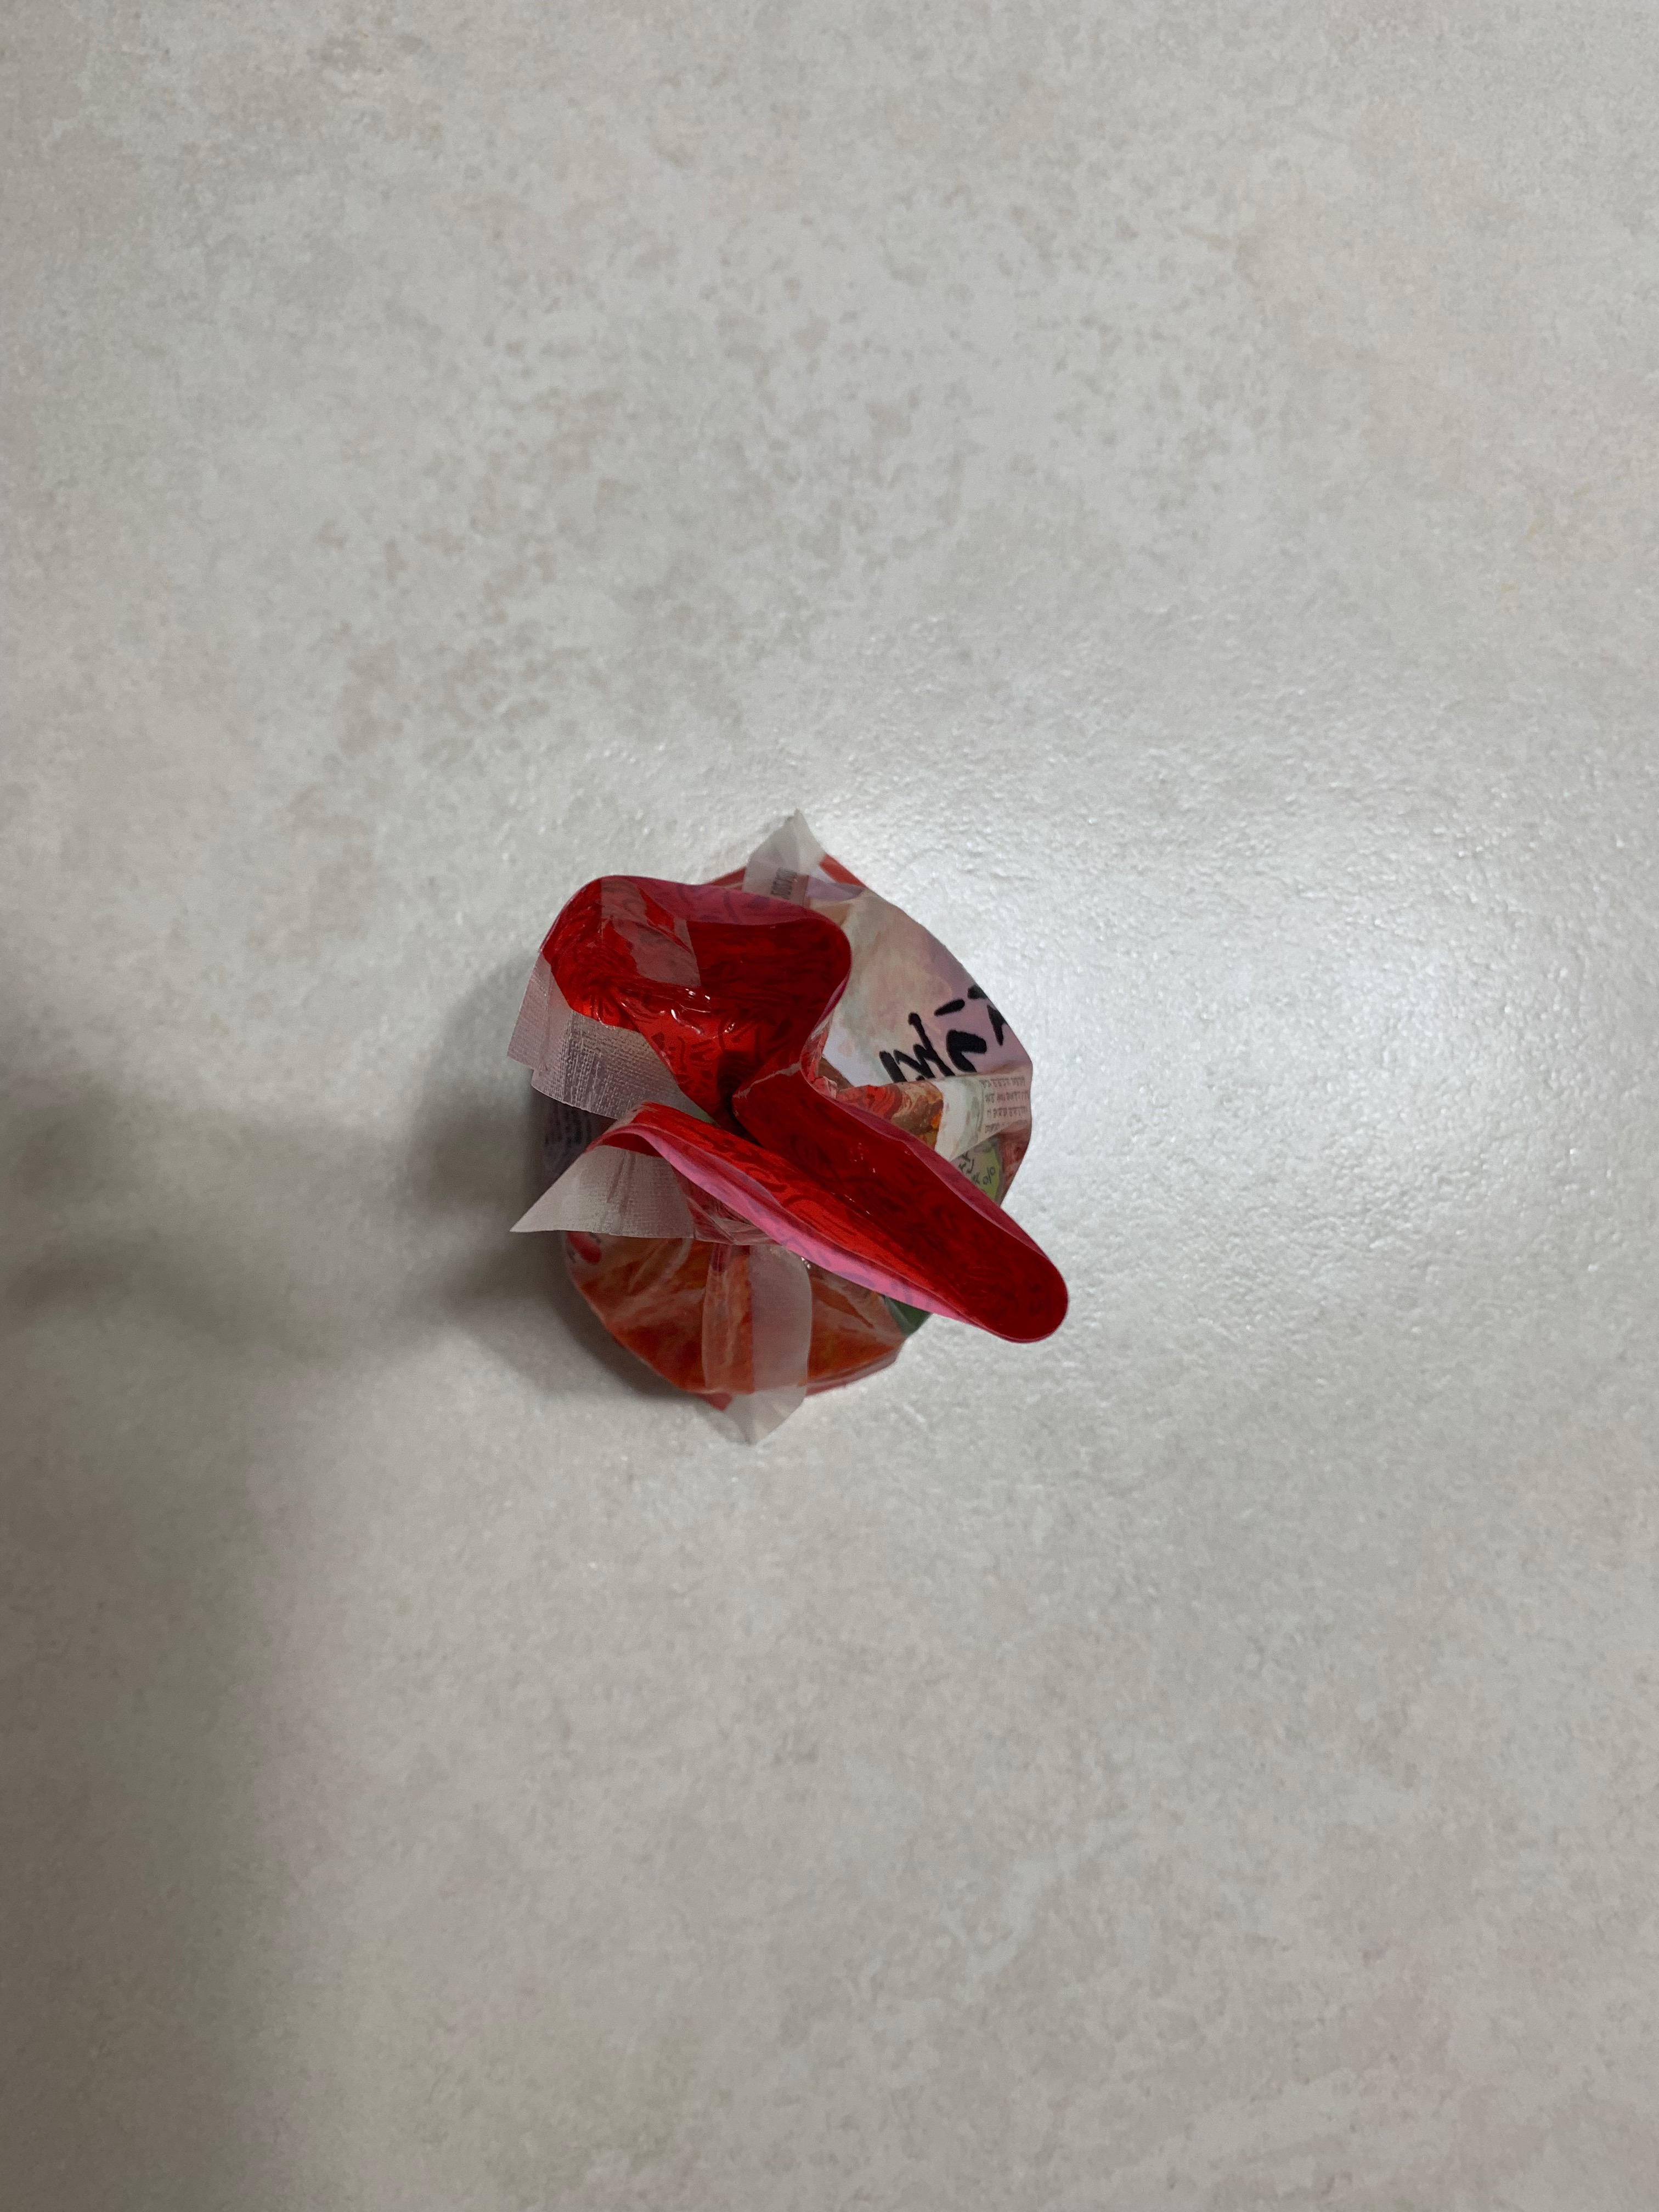kimchi: (511, 824, 1068, 1416)
